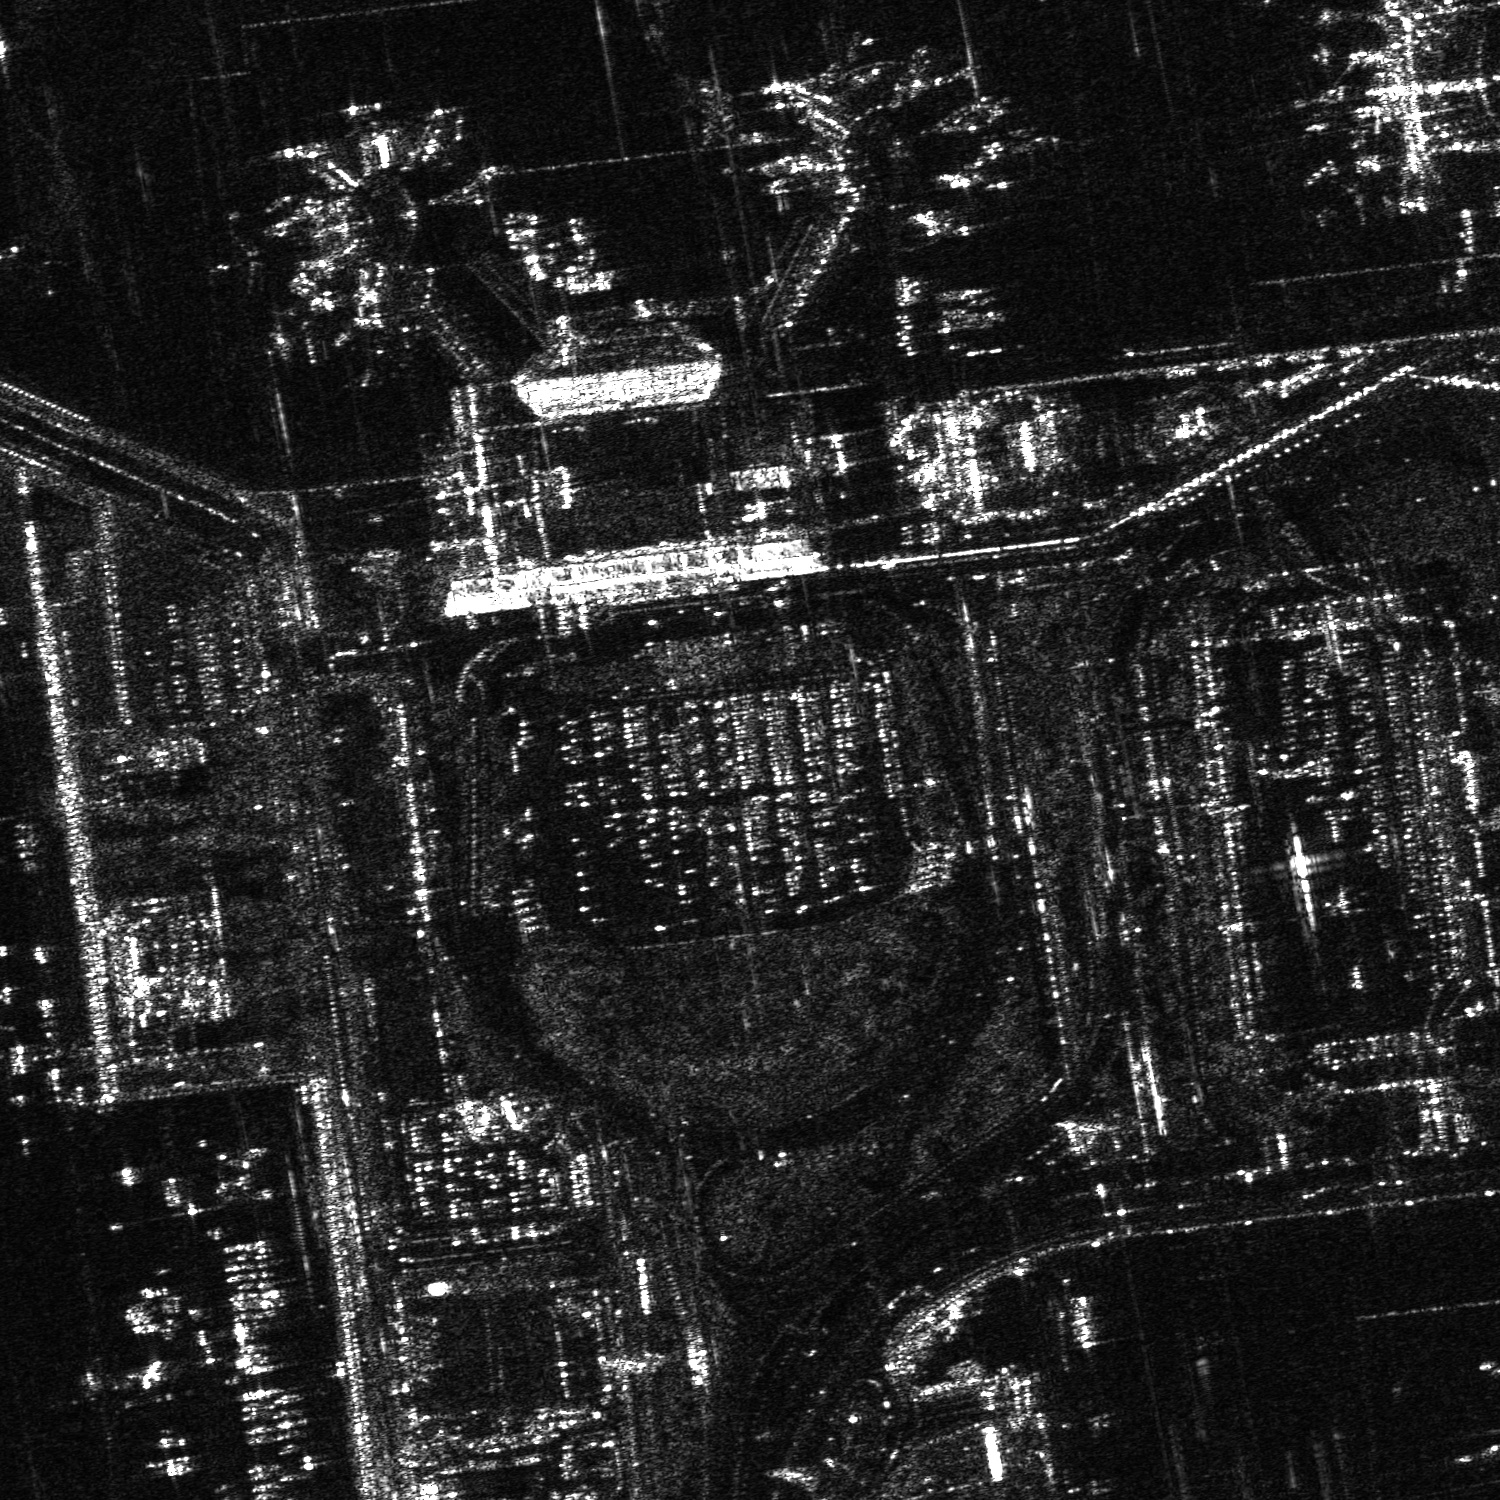A220: (205, 223, 273, 301)
Boeing787: (1313, 177, 1372, 229)
